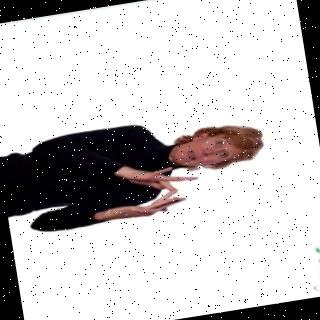Internet: (2, 103, 276, 240)
